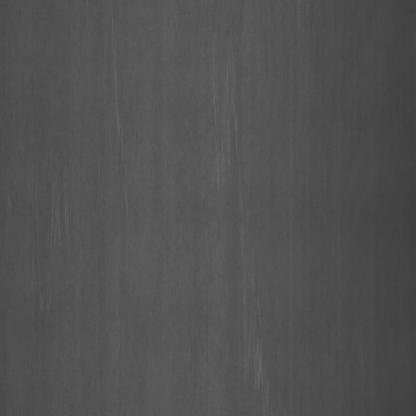silk_spot: (204, 37, 254, 200), (236, 270, 278, 394), (101, 41, 135, 146)
